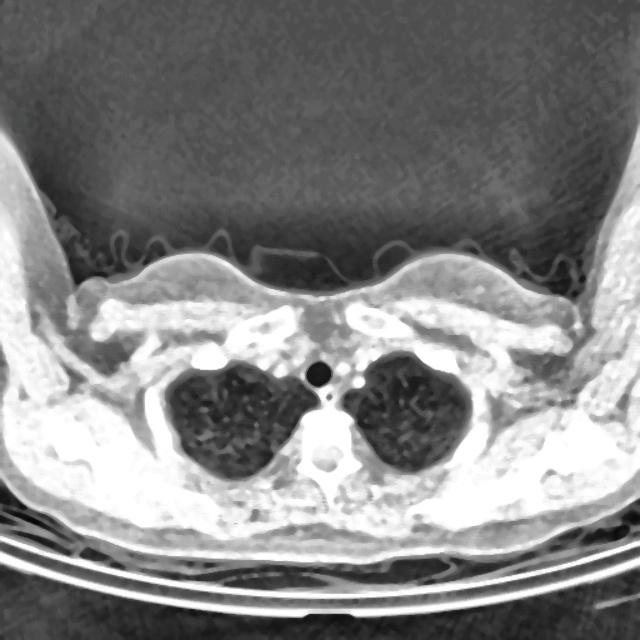covid: (0, 117, 639, 573)
